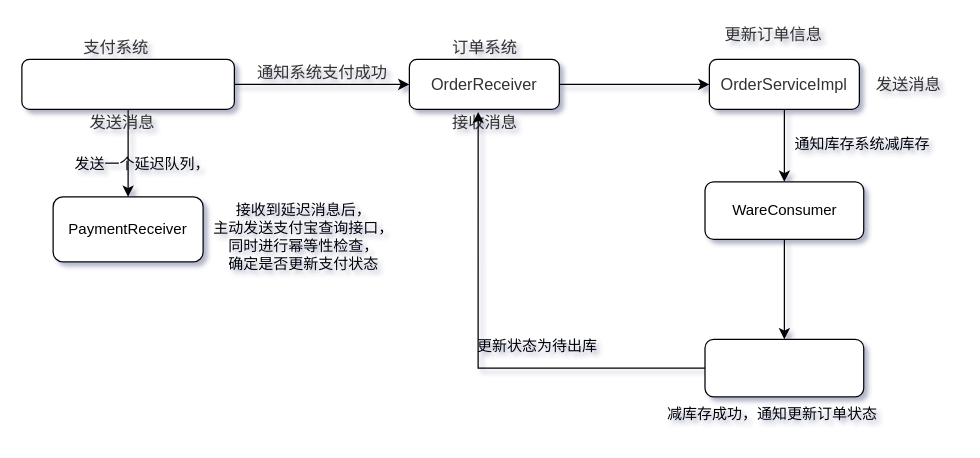
Some shapes in this 980 by 458 pixel diagram are drawn without their labels. The shapes that lost their labels are listed below. From the top down, each one's centre as x and y in pixels, then its label:
At point (127, 83): "PaymentApiController".
At point (784, 367): "gwareServiceImpl-> sendSkuDeductMQ()".
